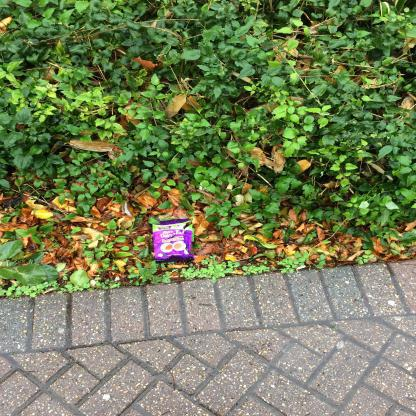plastik: (153, 219, 197, 265)
